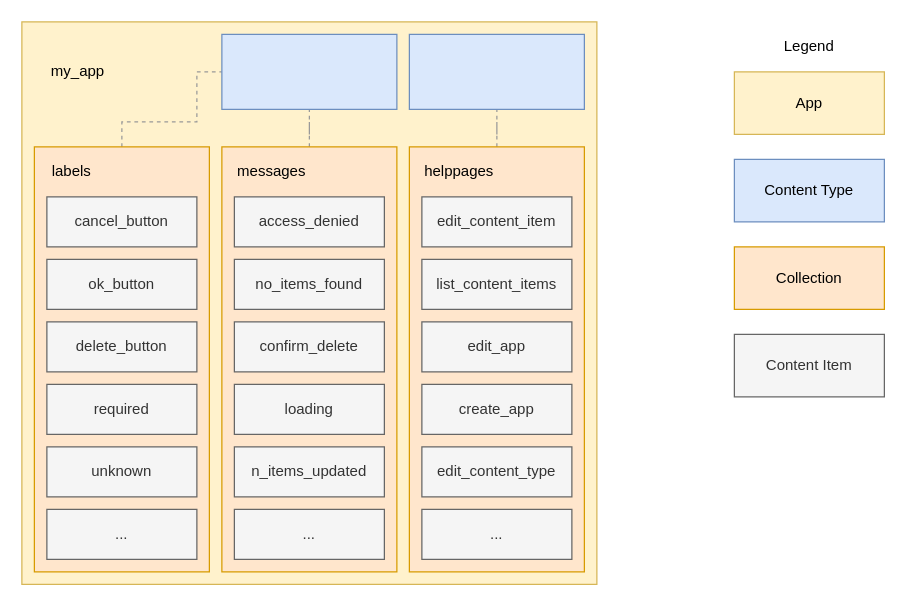
The diagram is 906 pixels wide and 606 high, and some of its shapes have lost their labels. The box of each missing label's shape, as (x1, y1, x2, y2) in pixels:
helppage: (408, 33, 584, 109)
translation: (221, 33, 397, 109)
